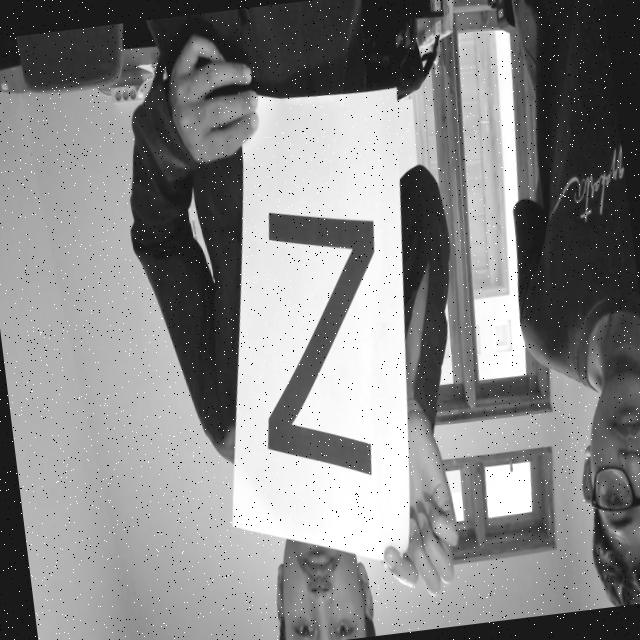z: (233, 162, 410, 500)
